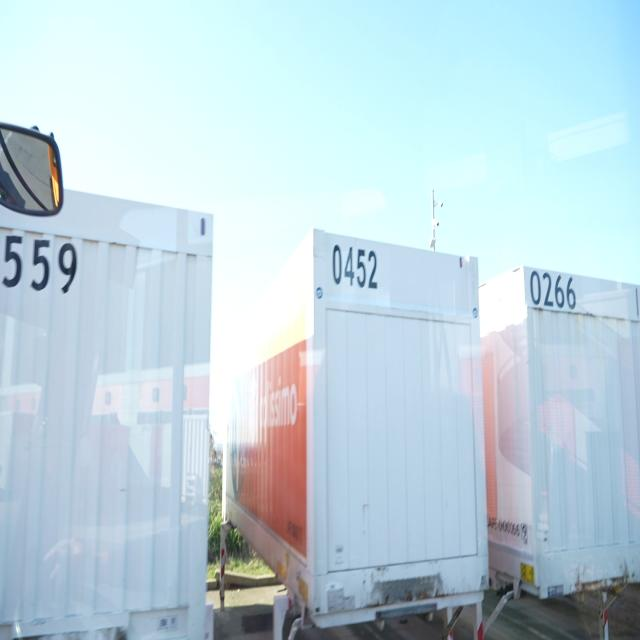Code: (328, 237, 385, 296), (528, 265, 582, 317)
